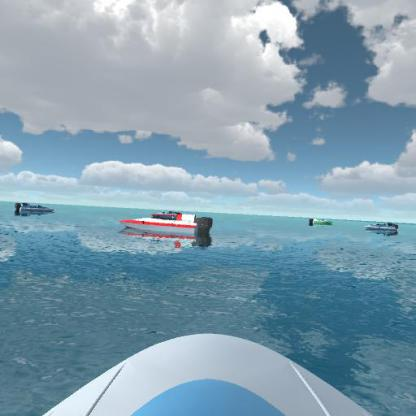usv0: (307, 215, 338, 229)
usv1: (14, 198, 58, 222), (362, 216, 402, 238)
usv3: (112, 206, 217, 247), (149, 208, 186, 221)
